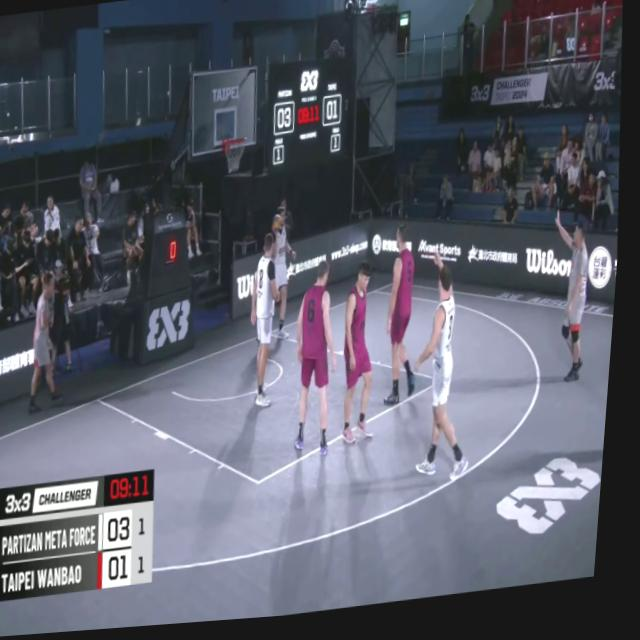hoop: (222, 136, 251, 181)
player: (412, 253, 490, 495), (291, 262, 351, 466), (341, 266, 395, 456), (380, 230, 432, 417), (247, 238, 298, 420), (269, 205, 309, 346)
